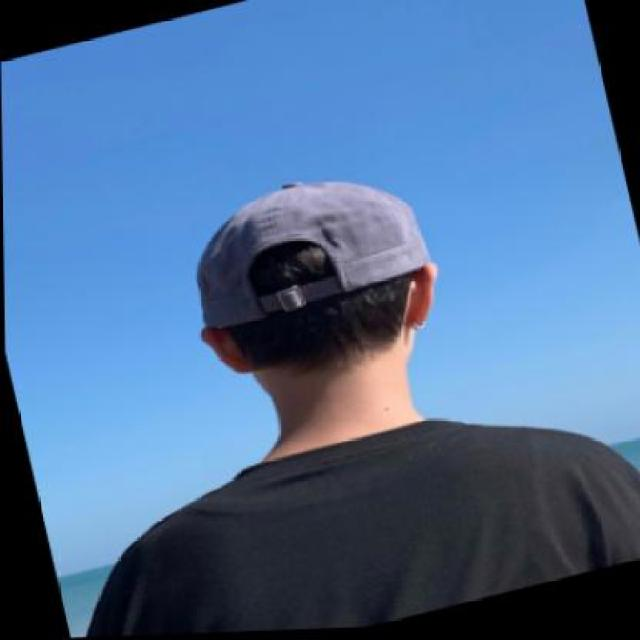hat: (173, 150, 432, 342)
